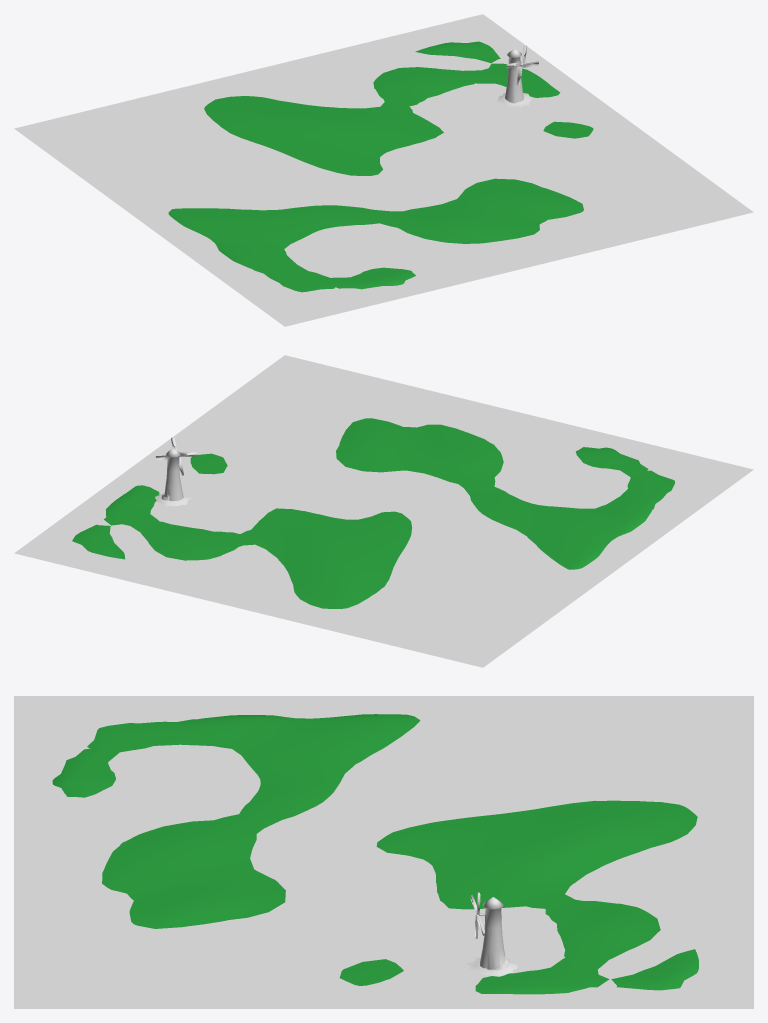
File: windmills.dae
3 renders of one model, top to bottom at view 1: azimuth 30°, elevation 25°; view 2: azimuth 150°, elevation 25°; view 3: azimuth 270°, elevation 25°, orthographic. The views are drawn at different scales.
Visible parts, largest first — view 1: land, grasses, mill1; view 2: land, grasses, mill1; view 3: land, grasses, mill1.
Boxes of the visible parts, bbox=[...] form: land: bbox=[14, 14, 753, 326]; grasses: bbox=[168, 41, 593, 292]; mill1: bbox=[505, 48, 524, 103]; land: bbox=[14, 355, 753, 667]; grasses: bbox=[72, 418, 674, 608]; mill1: bbox=[161, 448, 183, 501]; land: bbox=[14, 696, 753, 1008]; grasses: bbox=[52, 714, 698, 994]; mill1: bbox=[480, 897, 508, 970].
Size of the model in its own units: 824 by 824 by 105.
